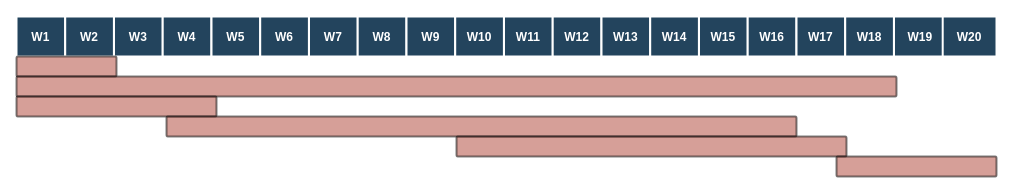
This 1013x193 diagram has some shape labels left out. The centre of each missing label's shape, as x and y in pixels:
"Data Extraction & Cleaning" goes at [116,106].
"Models Evaluation & Comparison" goes at [651,146].
"Models Implementation" goes at [481,126].
"Models Selection" goes at [66,66].
"Paper Writing" goes at [456,86].
"Presentation Preparation" goes at [916,166].
